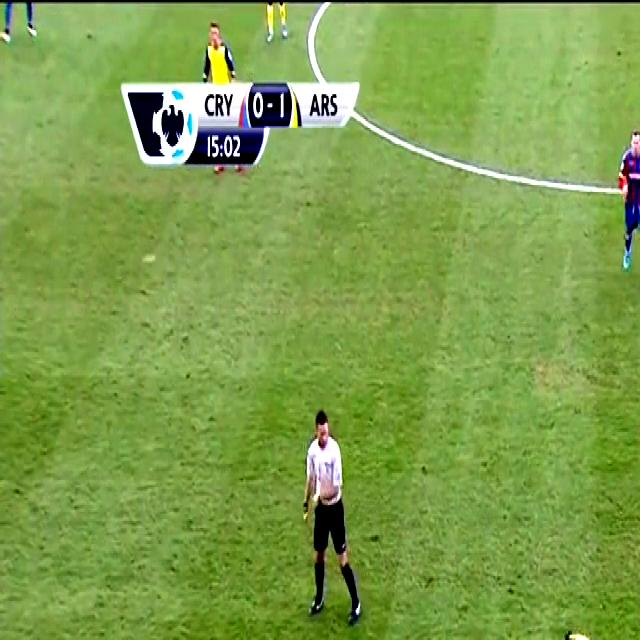referee: (288, 407, 372, 636)
soccer-player: (603, 121, 640, 283), (502, 620, 640, 640), (427, 636, 520, 640)
